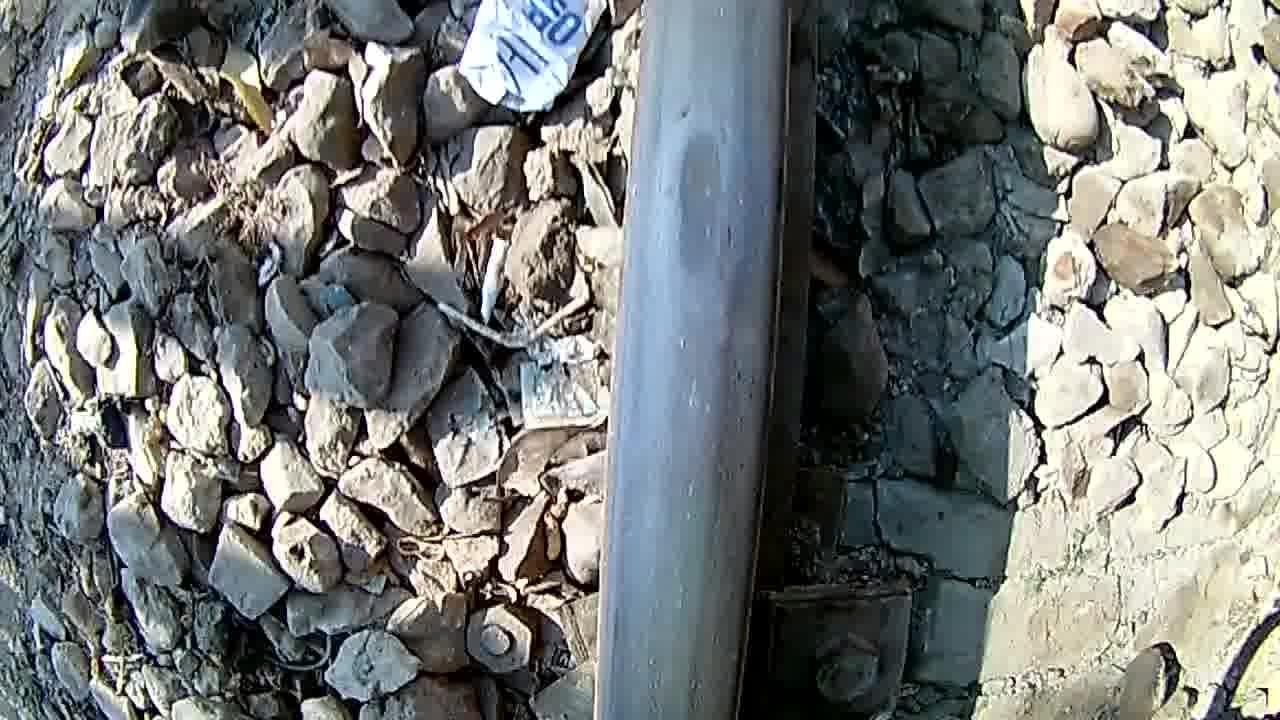bolt_missing: (613, 11, 785, 720)
